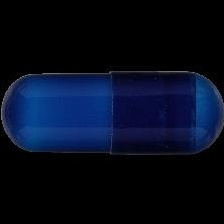21695-218: (0, 0, 224, 224)
